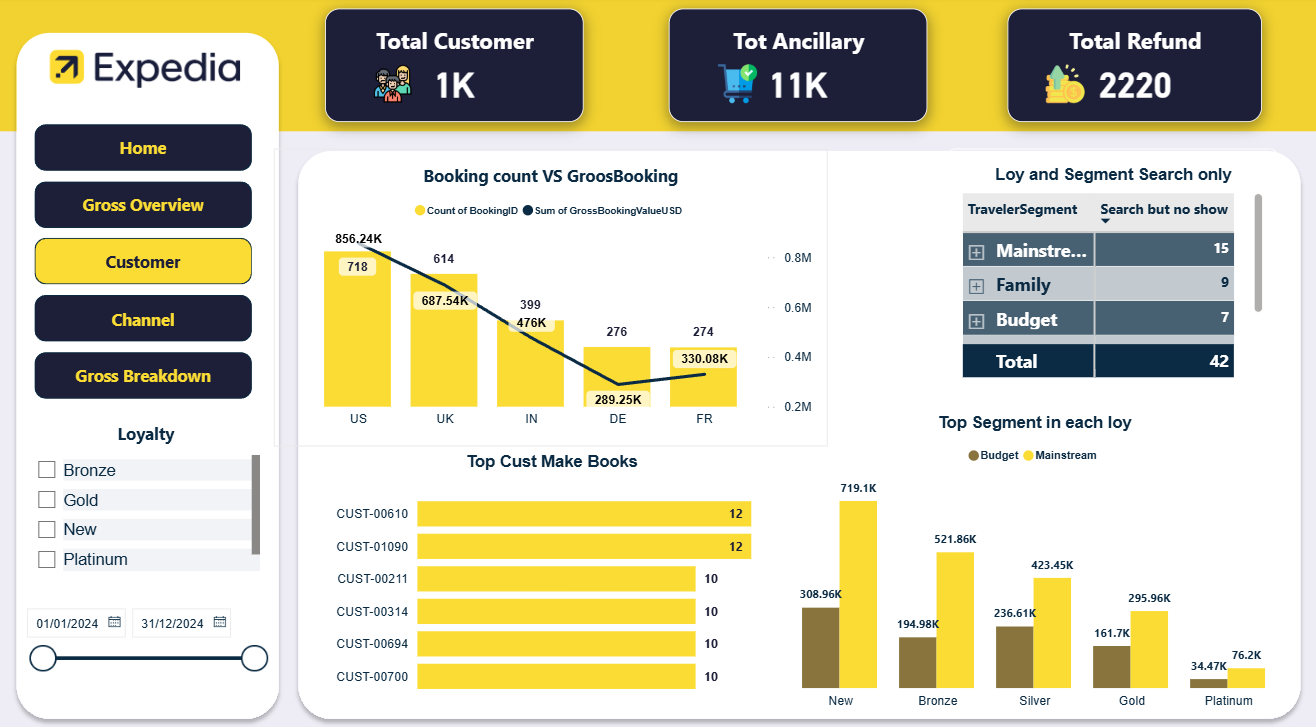

This screenshot's page, from the dashboard's own definition file:
{"tool":"powerbi","page":{"name":"Customer","canvas":[1280,720],"ordinal":2},"visuals":[{"type":"lineStackedColumnComboChart","title":"Booking count VS GroosBooking","fields":{"Category":["Dim_Customer.HomeMarket"],"Y":["CountNonNull(Fact_Bookings.BookingID)"],"Y2":["Sum(Fact_Bookings.GrossBookingValueUSD)"]},"box":[269,147.2,534.5,287.1],"z":0},{"type":"advanceCardE03760C5AB684758B56AA29F9E6C257B","title":"Total Customer","fields":{"mainMeasure":["CountNonNull(Dim_Customer.CustomerID)"]},"box":[318.4,12.3,249.7,109.8],"z":1000},{"type":"advanceCardE03760C5AB684758B56AA29F9E6C257B","title":"Tot Ancillary","fields":{"mainMeasure":["Sum(Fact_Bookings.AncillaryRevenueUSD)"]},"box":[650.3,12.1,249.7,109.8],"z":2000},{"type":"clusteredColumnChart","title":"Top Segment in each loy","fields":{"Category":["Dim_Customer.LoyaltyTier"],"Series":["Dim_Customer.TravelerSegment"],"Y":["Sum(Fact_Bookings.GrossBookingValueUSD)"]},"box":[725.9,387,554.4,318.4],"z":3000},{"type":"barChart","title":"Top Cust Make Books","fields":{"Category":["Dim_Customer.CustomerID"],"Y":["CountNonNull(Fact_Bookings.BookingID)"]},"box":[312.5,424.7,450,272.7],"z":4000},{"type":"pivotTable","title":"Loy and Segment Search only","fields":{"Rows":["Dim_Customer.TravelerSegment","Dim_Customer.LoyaltyTier"],"Values":["Fact_Bookings.Search but no show"]},"box":[918,146.8,321.1,236],"z":5000},{"type":"advanceCardE03760C5AB684758B56AA29F9E6C257B","title":"Total Refund","fields":{"mainMeasure":["Fact_Bookings.Refund y count"]},"box":[977,12.3,245.6,109.8],"z":6000},{"type":"slicer","fields":{"Values":["Fact_Bookings.BookingDate"]},"box":[22.9,586.3,243.7,92.9],"z":7000},{"type":"slicer","title":"Loyalty ","fields":{"Values":["Dim_Customer.LoyaltyTier"]},"box":[32.6,410.2,224.4,150.8],"z":8000},{"type":"image","box":[32.6,32.6,224.4,71.2],"z":9000},{"type":"pageNavigator","box":[22.9,108.6,240.1,295.6],"z":10000},{"type":"image","box":[986.9,50.7,91.7,67.6],"z":11000},{"type":"image","box":[670.8,50.7,91.7,67.6],"z":12000},{"type":"image","box":[337.8,50.7,91.7,67.6],"z":13000}]}

Visuals, with their boxes in screenshot pixels (x1, y1, x2, y2), scaled from the page's 1280x720 canvas onto the 1316x727 screenshot:
"Booking count VS GroosBooking" lineStackedColumnComboChart: {"x1": 277, "y1": 149, "x2": 826, "y2": 439}
"Total Customer" advanceCardE03760C5AB684758B56AA29F9E6C257B: {"x1": 327, "y1": 12, "x2": 584, "y2": 123}
"Tot Ancillary" advanceCardE03760C5AB684758B56AA29F9E6C257B: {"x1": 669, "y1": 12, "x2": 925, "y2": 123}
"Top Segment in each loy" clusteredColumnChart: {"x1": 746, "y1": 391, "x2": 1315, "y2": 712}
"Top Cust Make Books" barChart: {"x1": 321, "y1": 429, "x2": 784, "y2": 704}
"Loy and Segment Search only" pivotTable: {"x1": 944, "y1": 148, "x2": 1274, "y2": 387}
"Total Refund" advanceCardE03760C5AB684758B56AA29F9E6C257B: {"x1": 1004, "y1": 12, "x2": 1257, "y2": 123}
slicer - Fact_Bookings.BookingDate: {"x1": 24, "y1": 592, "x2": 274, "y2": 686}
"Loyalty " slicer: {"x1": 34, "y1": 414, "x2": 264, "y2": 566}
image: {"x1": 34, "y1": 33, "x2": 264, "y2": 105}
pageNavigator: {"x1": 24, "y1": 110, "x2": 270, "y2": 408}
image: {"x1": 1015, "y1": 51, "x2": 1109, "y2": 119}
image: {"x1": 690, "y1": 51, "x2": 784, "y2": 119}
image: {"x1": 347, "y1": 51, "x2": 442, "y2": 119}
